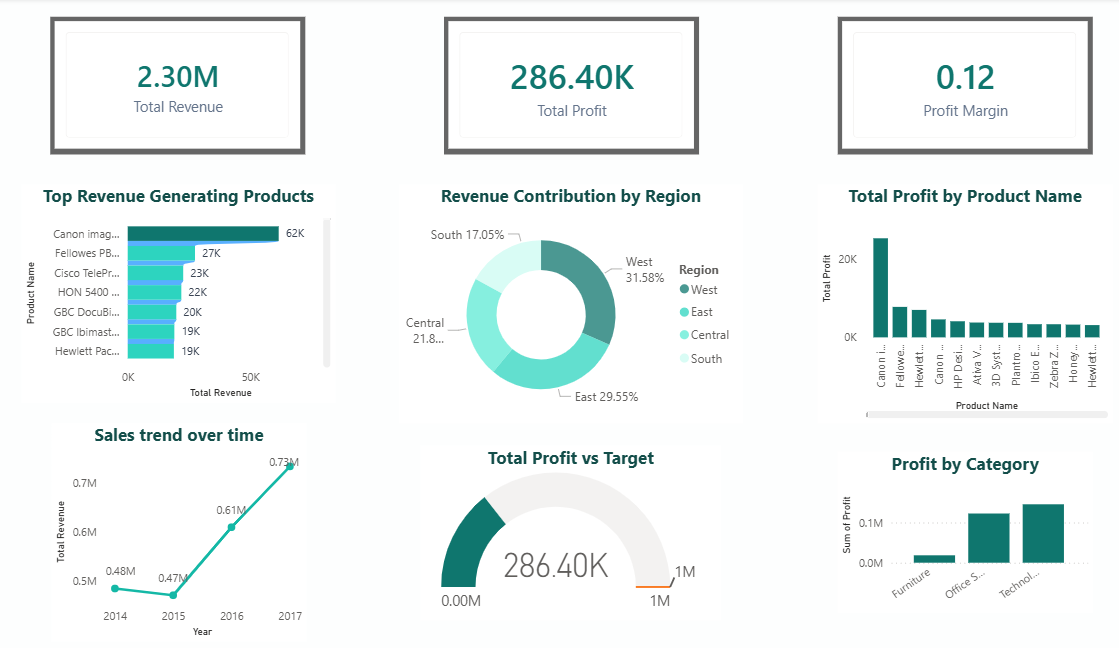

The page's visual inventory and layout, read from the dashboard file:
{"tool":"powerbi","page":{"name":"Page 1","canvas":[1280,720],"ordinal":0},"visuals":[{"type":"barChart","title":"Top Revenue Generating Products","fields":{"Category":["futureinterns task 1 (2).Product Name"],"Y":["Sum(futureinterns task 1 (2).Sales)"]},"box":[68.6,204.5,344.4,240.1],"z":0},{"type":"lineChart","title":"Sales trend over time","fields":{"Category":["futureinterns task 1 (2).Order Date.Variation.Date Hierarchy.Year","futureinterns task 1 (2).Order Date.Variation.Date Hierarchy.Quarter","futureinterns task 1 (2).Order Date.Variation.Date Hierarchy.Month","futureinterns task 1 (2).Order Date.Variation.Date Hierarchy.Day"],"Y":["Sum(futureinterns task 1 (2).Sales)"]},"box":[101.5,466.6,279.9,240.1],"z":1000},{"type":"columnChart","title":"Profit by Category","fields":{"Category":["futureinterns task 1 (2).Category"],"Y":["Sum(futureinterns task 1 (2).Profit)"]},"box":[964.7,498.1,279.9,177],"z":2000},{"type":"cardVisual","fields":{"Data":["futureinterns task 1 (2).Profit Margin"]},"box":[964.7,20.6,279.9,150.9],"z":3000},{"type":"actionButton","box":[0,0,100,40],"z":4000},{"type":"cardVisual","fields":{"Data":["futureinterns task 1 (2).Total Profit"]},"box":[532.4,20.6,279.9,150.9],"z":5000},{"type":"cardVisual","fields":{"Data":["futureinterns task 1 (2).Total Revenue"]},"box":[100.2,20.6,279.9,150.9],"z":6000},{"type":"lineStackedColumnComboChart","fields":{"Category":["futureinterns task 1 (2).Product Name"],"Y":["futureinterns task 1 (2).Total Profit"]},"box":[942.7,204.5,323.8,262.1],"z":7000},{"type":"donutChart","title":"Revenue Contribution by Region","fields":{"Y":["futureinterns task 1 (2).Total Revenue"],"Category":["futureinterns task 1 (2).Region"]},"box":[483,204.5,377.4,262.1],"z":8000},{"type":"gauge","title":"Total Profit vs Target","fields":{"Y":["futureinterns task 1 (2).Total Profit"],"TargetValue":["futureinterns task 1 (2).Target Profit"],"MaxValue":["futureinterns task 1 (2).Target Profit"]},"box":[506.3,491.3,330.7,192.1],"z":9000}]}

Visuals, with their boxes in screenshot pixels (x1, y1, x2, y2), scaled from the page's 1280x720 canvas onto the 1119x648 screenshot:
"Top Revenue Generating Products" barChart: 60 184 361 400
"Sales trend over time" lineChart: 89 420 333 636
"Profit by Category" columnChart: 843 448 1088 608
cardVisual - futureinterns task 1 (2).Profit Margin: 843 19 1088 154
actionButton: 0 0 87 36
cardVisual - futureinterns task 1 (2).Total Profit: 465 19 710 154
cardVisual - futureinterns task 1 (2).Total Revenue: 88 19 332 154
lineStackedColumnComboChart - futureinterns task 1 (2).Product Name x futureinterns task 1 (2).Total Profit: 824 184 1107 420
"Revenue Contribution by Region" donutChart: 422 184 752 420
"Total Profit vs Target" gauge: 443 442 732 615
